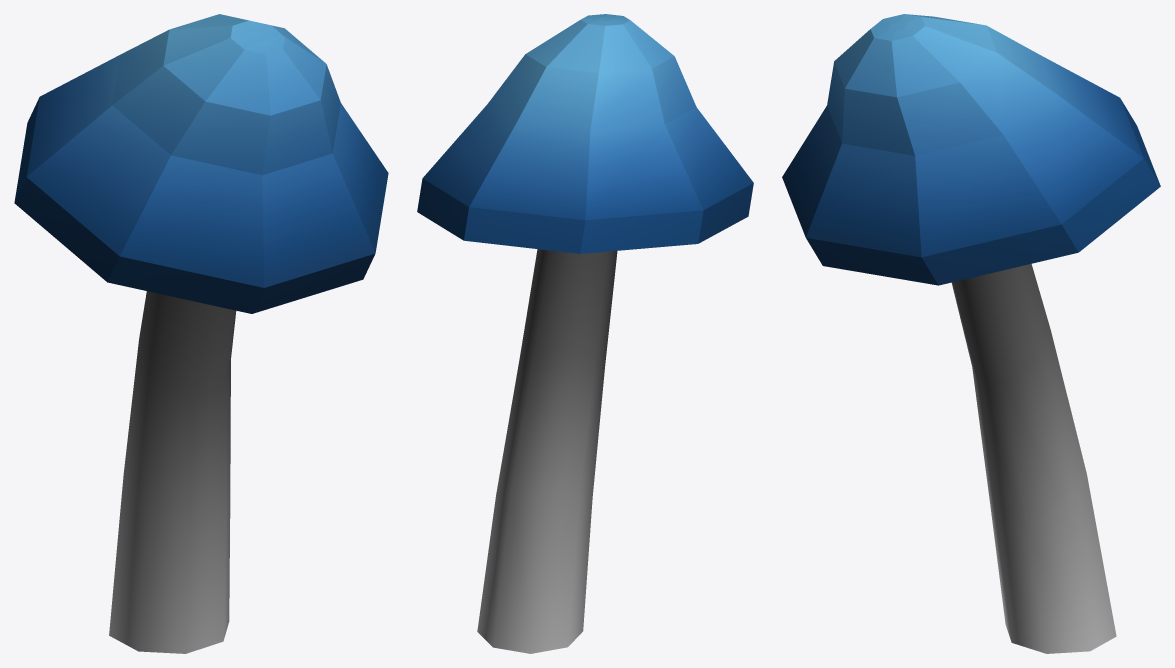
The model's file is MushroomExtraSmallBlue.FBX.
3 views of the same model, side by side, from view 1: azimuth 30°, elevation 25°; view 2: azimuth 150°, elevation 25°; view 3: azimuth 270°, elevation 25° (orthographic). The views are drawn at different scales.
Visible parts, largest first — view 1: Cylinder056; view 2: Cylinder056; view 3: Cylinder056.
Boxes of the visible parts, bbox=[...] form: Cylinder056: bbox=[14, 14, 388, 653]; Cylinder056: bbox=[417, 14, 753, 653]; Cylinder056: bbox=[782, 14, 1160, 653].
Size of the model in its own units: 13.83 by 27.32 by 15.43.
